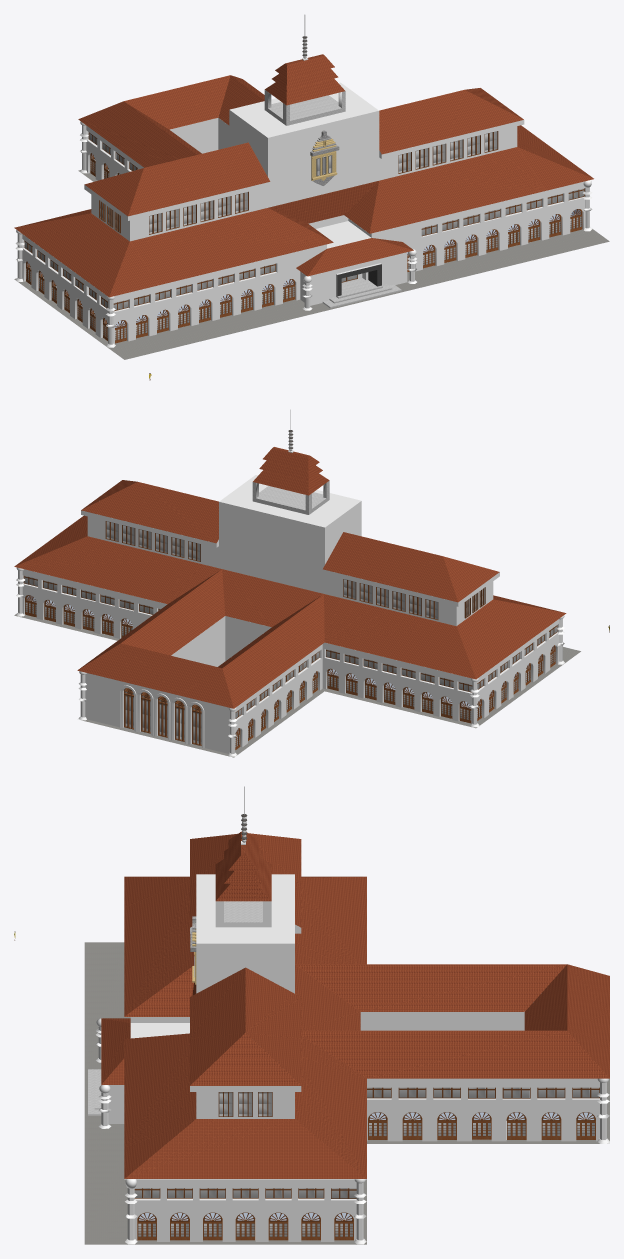
The model's file is jawabarat.glb.
3 renders of one model, top to bottom at view 1: azimuth 30°, elevation 25°; view 2: azimuth 150°, elevation 25°; view 3: azimuth 270°, elevation 25°, orthographic. The views are drawn at different scales.
Parts seen in each view (by area): view 1: Object_10, Object_3, Object_32, Object_39, Object_51, Object_2, Object_38, Object_34, Object_11, Object_5; view 2: Object_10, Object_3, Object_39, Object_51, Object_32, Object_38, Object_2, Object_34; view 3: Object_10, Object_3, Object_32, Object_51, Object_39, Object_38, Object_2, Object_34.
Boxes of the visible parts, x1,y1,x2,y2 form: Object_10: (14, 54, 593, 297); Object_3: (15, 38, 592, 380); Object_32: (14, 170, 609, 359); Object_39: (24, 131, 584, 340); Object_51: (25, 131, 583, 340); Object_2: (264, 90, 401, 308); Object_38: (26, 153, 582, 343); Object_34: (27, 154, 580, 327); Object_11: (310, 138, 337, 180); Object_5: (316, 155, 381, 296); Object_10: (14, 447, 566, 708); Object_3: (16, 432, 609, 756); Object_39: (23, 521, 557, 747); Object_51: (24, 521, 556, 747); Object_32: (14, 614, 580, 757); Object_38: (25, 595, 555, 749); Object_2: (252, 480, 329, 514); Object_34: (26, 596, 554, 733); Object_10: (101, 831, 609, 1178); Object_3: (14, 817, 609, 1244); Object_32: (84, 942, 609, 1244); Object_51: (134, 1087, 599, 1236); Object_39: (134, 1087, 599, 1236); Object_38: (137, 1116, 595, 1240); Object_2: (88, 901, 262, 1113); Object_34: (139, 1112, 593, 1220).
Bounding box in the file's own units: 110 × 51.6 × 90.79.
Materials: 14 (14 with a texture image).
